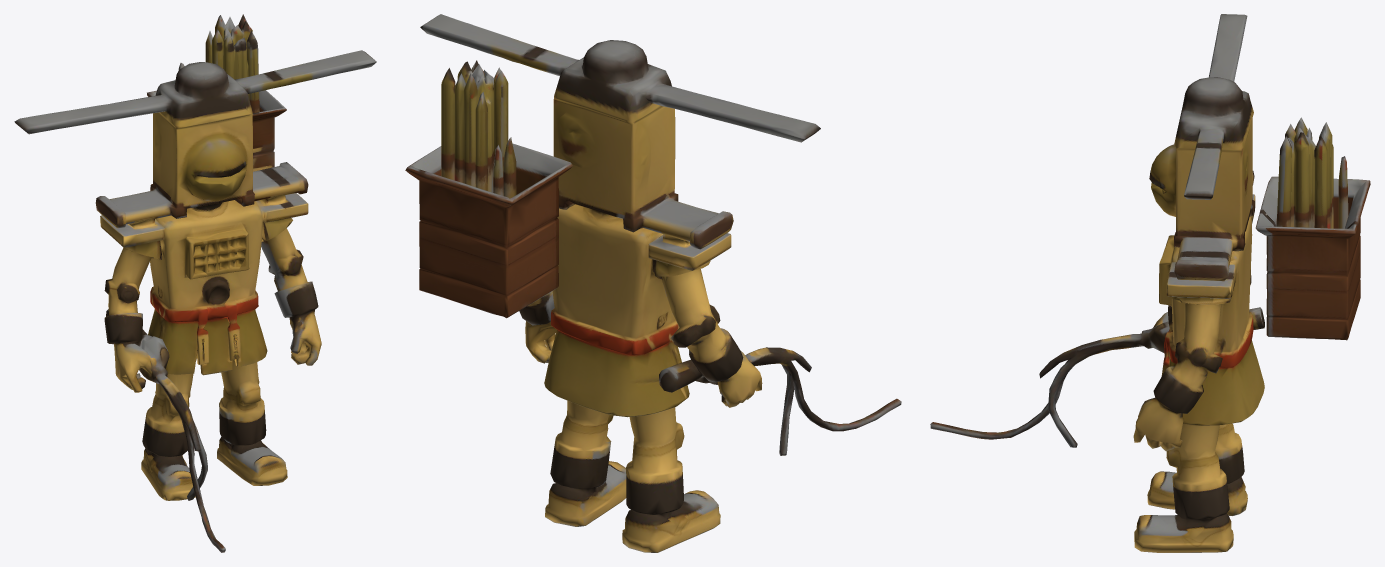
Rendered from modou_A_h25.glb.
3 renders of one model, left to right at view 1: azimuth 30°, elevation 25°; view 2: azimuth 150°, elevation 25°; view 3: azimuth 270°, elevation 25°, orthographic. The views are drawn at different scales.
Parts seen in each view (by area): view 1: tripo_node_a1e0a53b-82c1-4a7b-940b-5bf379352c24; view 2: tripo_node_a1e0a53b-82c1-4a7b-940b-5bf379352c24; view 3: tripo_node_a1e0a53b-82c1-4a7b-940b-5bf379352c24.
Boxes of the visible parts, box(x1,y1,x2,y2) form: tripo_node_a1e0a53b-82c1-4a7b-940b-5bf379352c24: box(14, 14, 376, 552); tripo_node_a1e0a53b-82c1-4a7b-940b-5bf379352c24: box(405, 14, 901, 552); tripo_node_a1e0a53b-82c1-4a7b-940b-5bf379352c24: box(930, 14, 1370, 552).
Bounding box in the file's own units: 0.8845 × 1 × 0.9076.
1 material, 1 textured.
